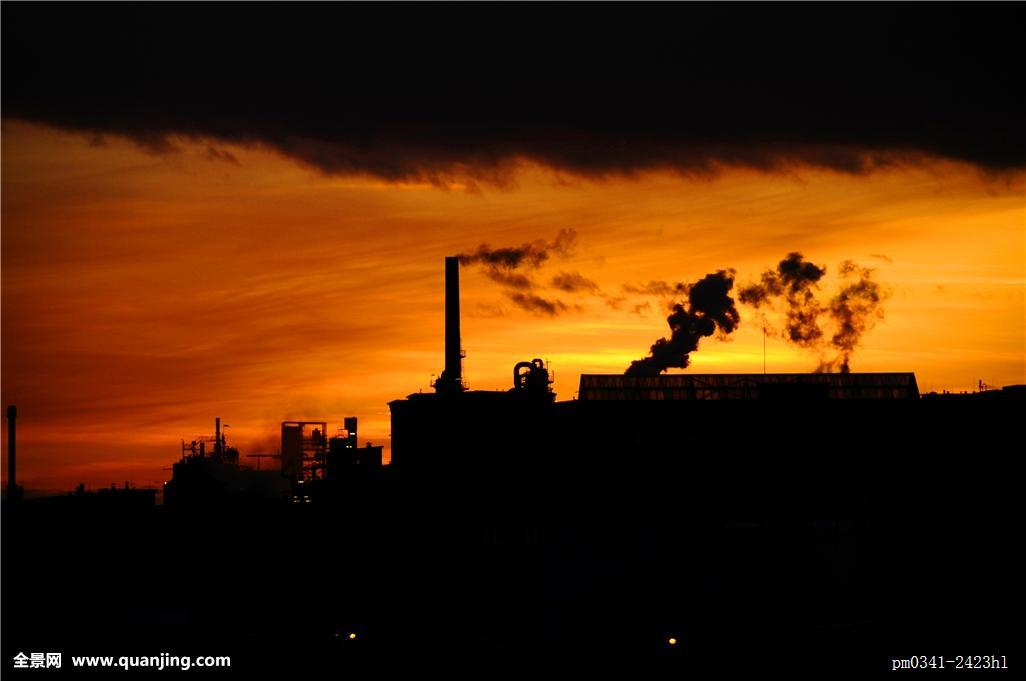dust: (614, 267, 773, 379), (427, 225, 600, 316)
